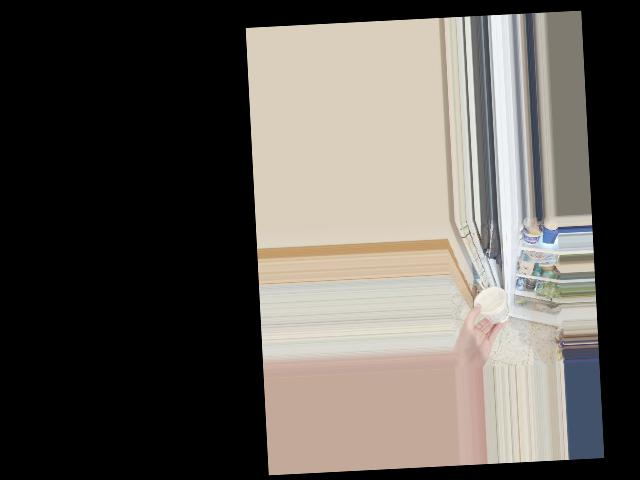cotage: (469, 287, 509, 328)
